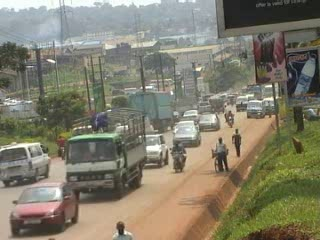Car: (7, 180, 80, 233), (142, 130, 170, 168), (172, 124, 201, 149), (172, 118, 199, 137), (198, 112, 223, 131), (180, 107, 201, 122)
Motorcycle: (167, 144, 188, 173), (53, 134, 67, 159), (223, 109, 237, 129)
